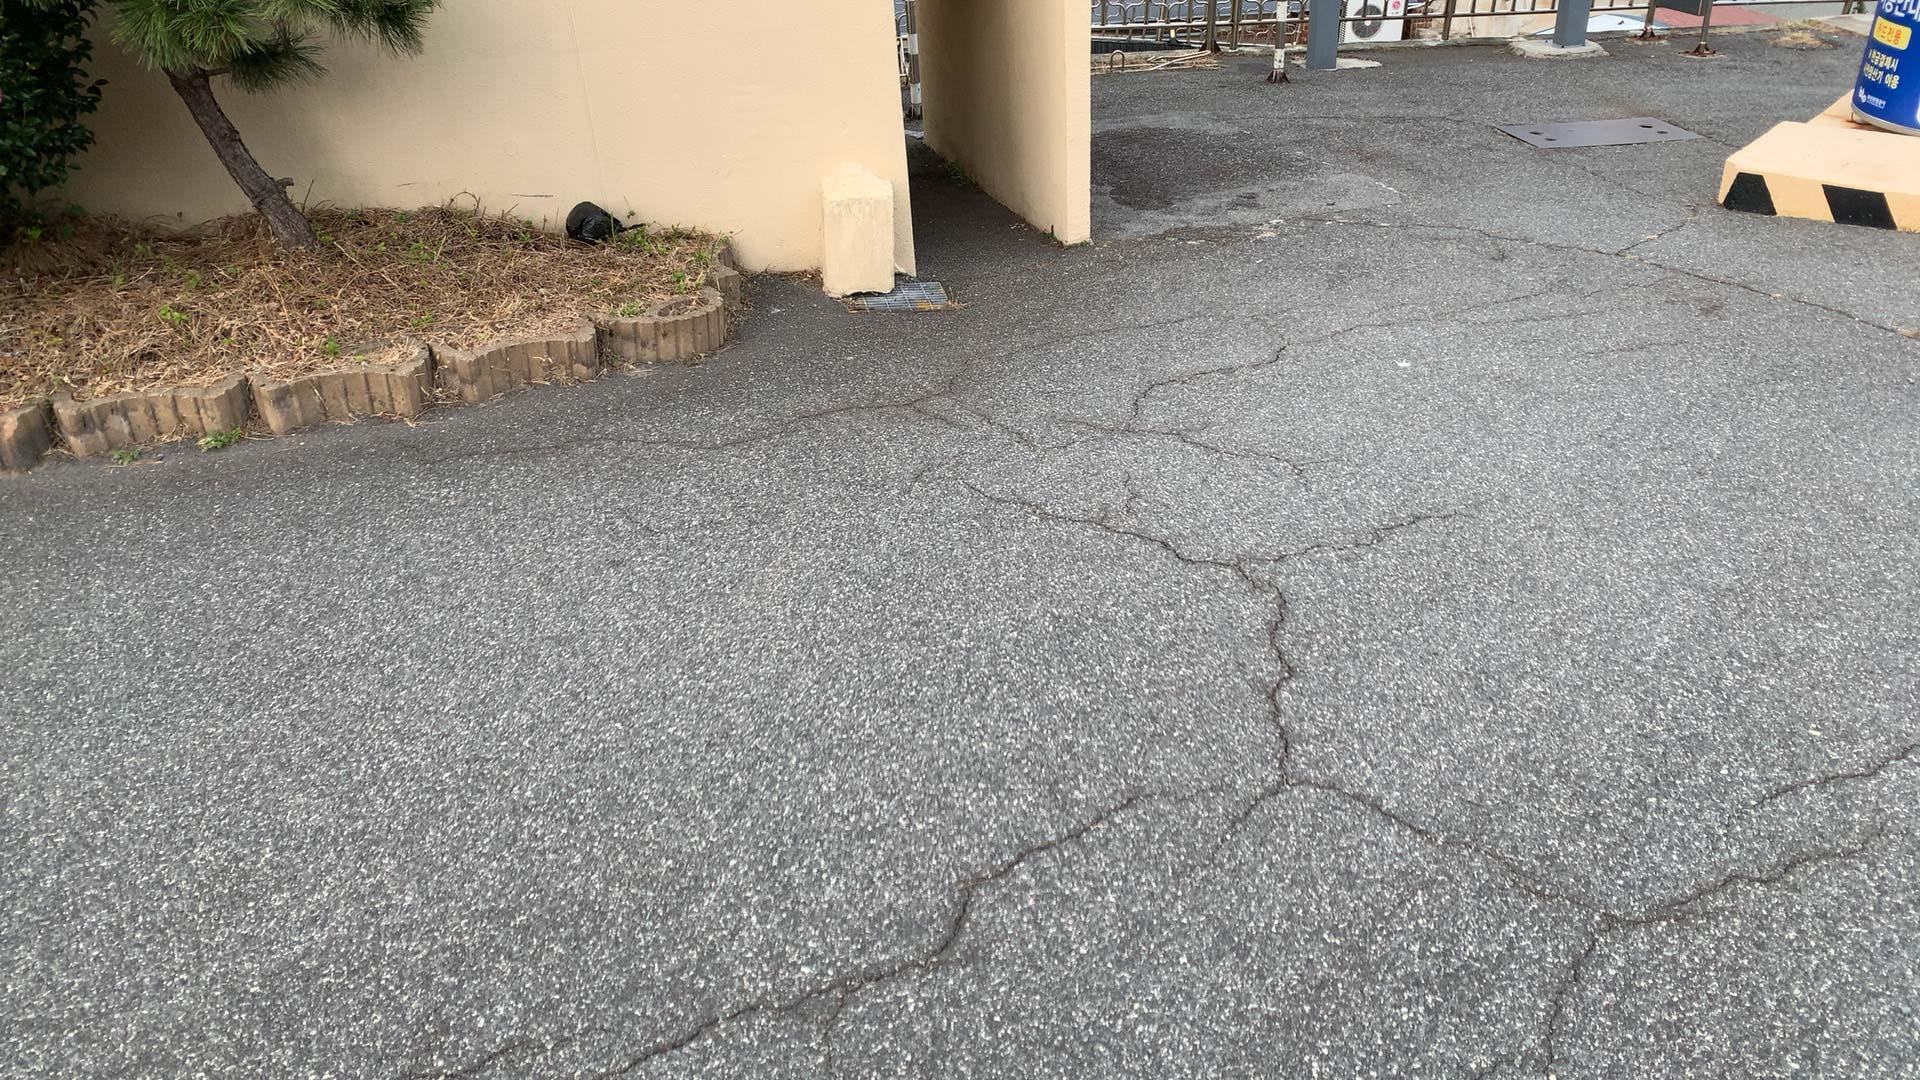black_bag: (556, 196, 647, 245)
